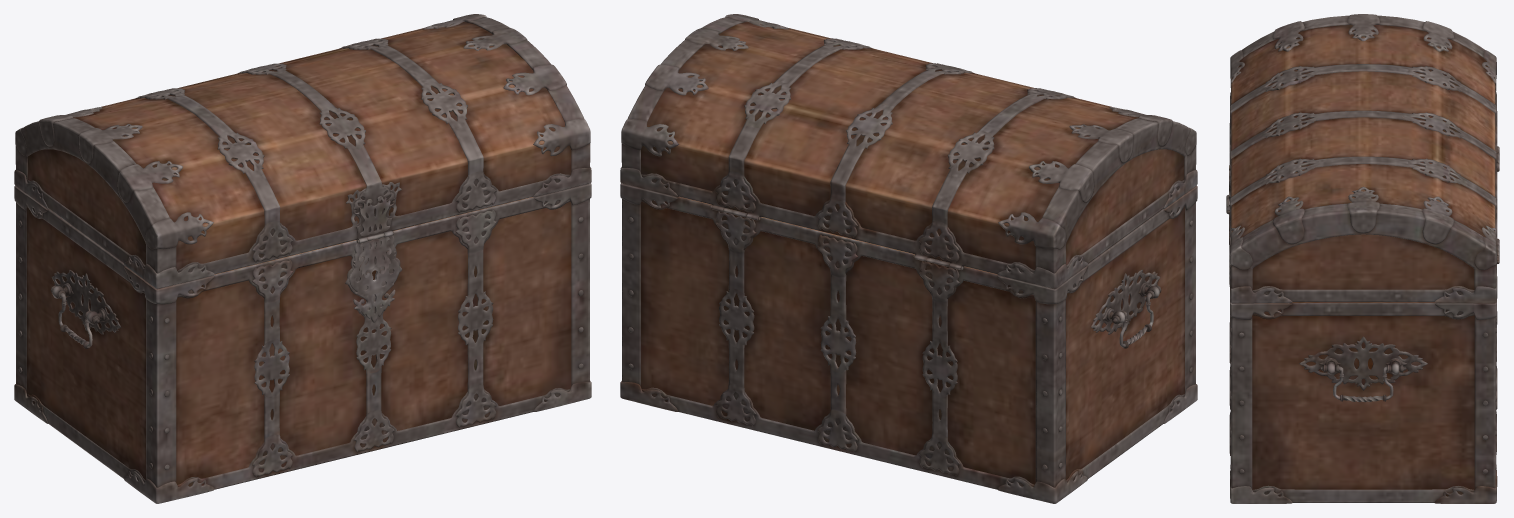
File: chest.glb
3 renders of one model, left to right at view 1: azimuth 30°, elevation 25°; view 2: azimuth 150°, elevation 25°; view 3: azimuth 270°, elevation 25°, orthographic. The views are drawn at different scales.
Visible parts, largest first — view 1: treasure_chest; view 2: treasure_chest; view 3: treasure_chest.
Boxes of the visible parts, box(x1,y1,x2,y2) form: treasure_chest: box(14, 14, 591, 503); treasure_chest: box(620, 14, 1197, 503); treasure_chest: box(1226, 14, 1499, 503).
Bounding box in the file's own units: 0.6507 × 0.42 × 0.3548.
1 material, 1 textured.
